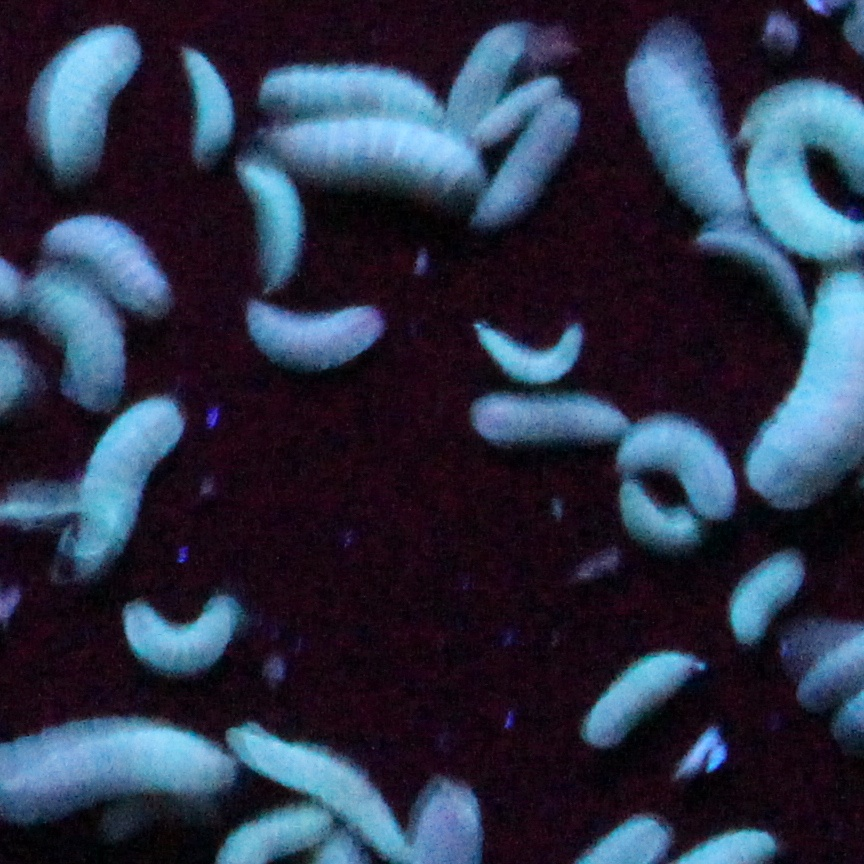larve: (227, 719, 419, 857), (623, 19, 748, 226), (62, 392, 187, 569), (269, 111, 491, 198), (41, 15, 137, 173), (469, 96, 577, 226), (25, 269, 121, 407), (621, 411, 739, 521), (39, 217, 177, 311), (581, 646, 702, 744), (262, 69, 454, 128), (123, 598, 241, 676), (446, 13, 531, 119), (237, 159, 304, 292), (473, 315, 594, 386), (252, 301, 379, 367), (471, 398, 637, 442), (179, 44, 235, 161), (731, 553, 804, 642), (616, 480, 696, 548), (477, 76, 564, 138)
